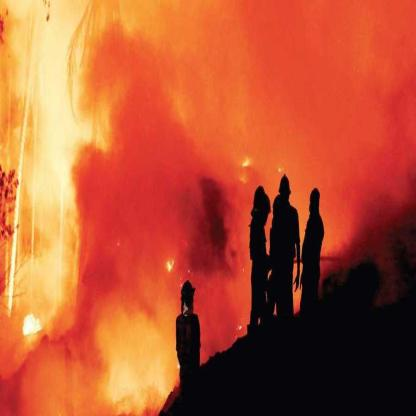fire: (4, 1, 110, 310), (101, 348, 170, 410), (18, 309, 44, 340), (239, 152, 254, 174), (164, 252, 176, 278), (276, 162, 284, 174)
